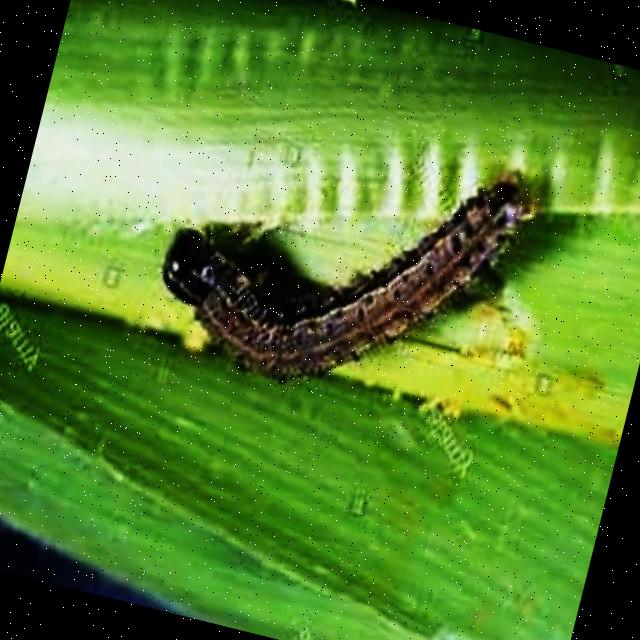worm: (139, 104, 544, 440)
